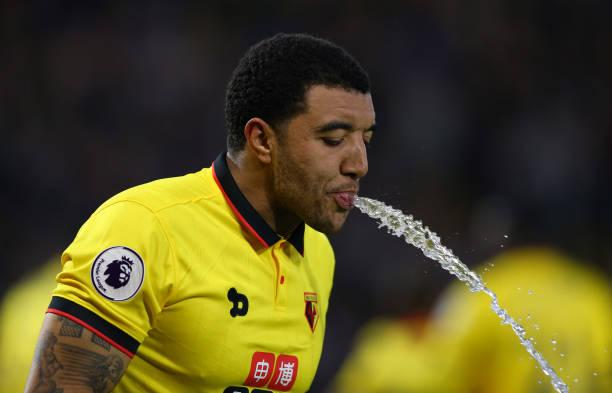Spitting: (196, 17, 425, 261)
